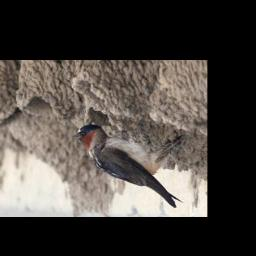Swallow: (71, 123, 186, 208)
